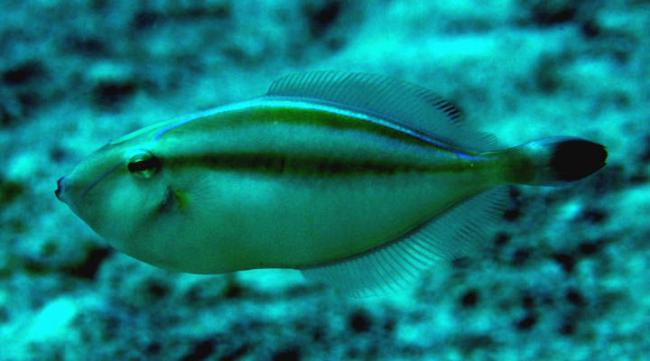fish: (54, 96, 609, 274)
